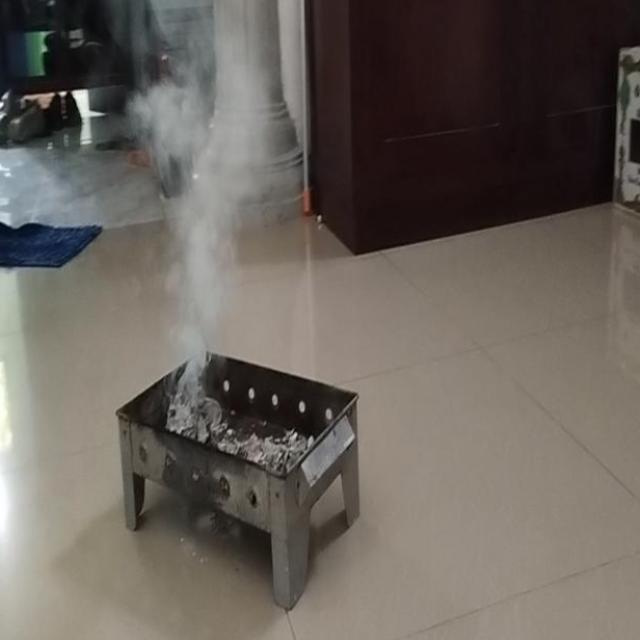fire: (147, 0, 271, 221), (167, 218, 236, 359)
